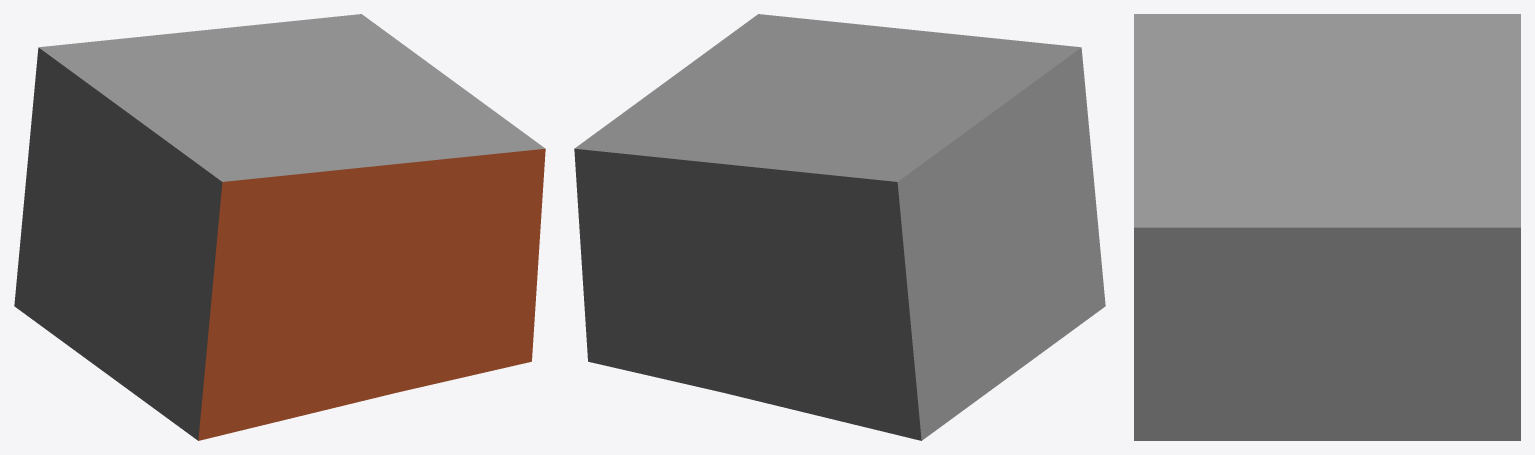
Rendered from construction_7260_assumed_A_Ruinas_h6m.obj.
3 renders of one model, left to right at view 1: azimuth 30°, elevation 25°; view 2: azimuth 150°, elevation 25°; view 3: azimuth 270°, elevation 25°, orthographic. The views are drawn at different scales.
Visible parts, largest first — view 1: construction_7260_assumed_A_Ruinas; view 2: construction_7260_assumed_A_Ruinas; view 3: construction_7260_assumed_A_Ruinas.
Boxes of the visible parts, bbox=[...] form: construction_7260_assumed_A_Ruinas: bbox=[14, 14, 545, 440]; construction_7260_assumed_A_Ruinas: bbox=[574, 14, 1105, 440]; construction_7260_assumed_A_Ruinas: bbox=[1134, 14, 1520, 440].
Size of the model in its own units: 6.54 by 4.59 by 6.
